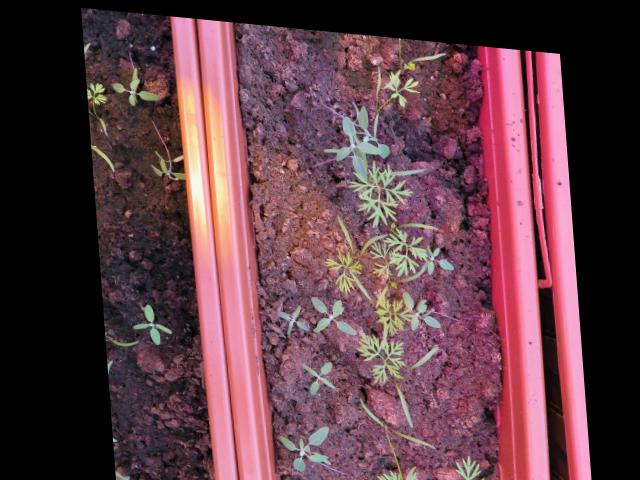weed: (266, 412, 330, 472), (104, 59, 163, 108), (304, 285, 356, 333), (122, 296, 172, 345), (293, 349, 334, 393), (269, 292, 309, 332)
